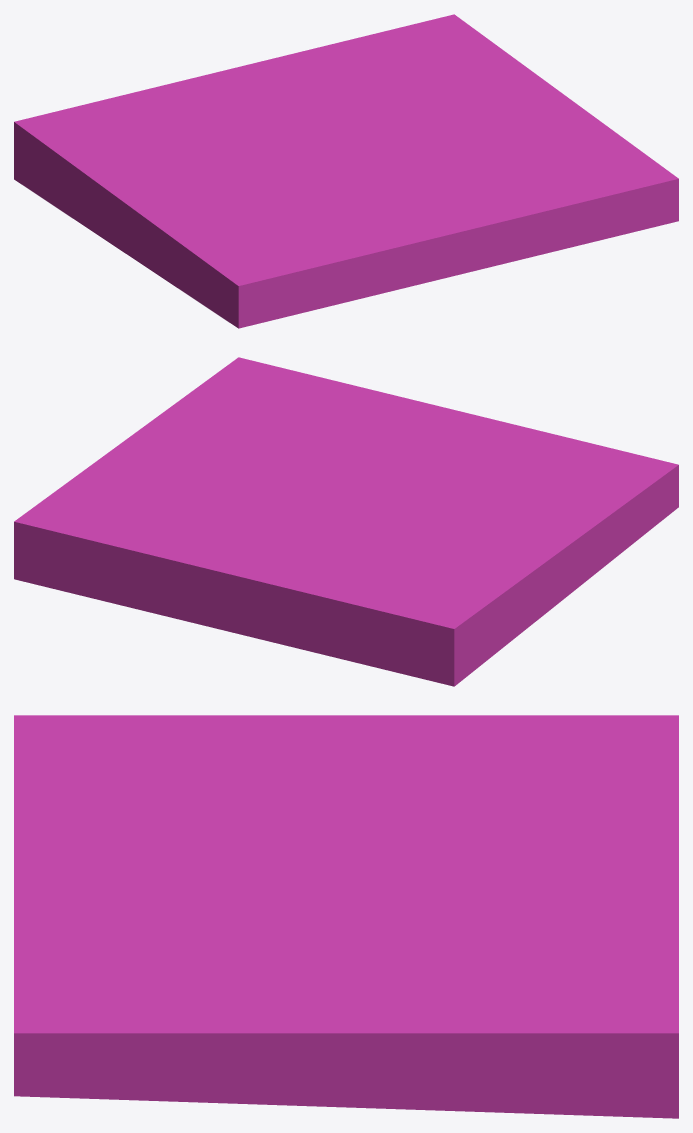
3 views of the same model, one above another, from view 1: azimuth 30°, elevation 25°; view 2: azimuth 150°, elevation 25°; view 3: azimuth 270°, elevation 25° (orthographic). The views are drawn at different scales.
Bounding box in the file's own units: 4.18 × 0.5228 × 3.69.
